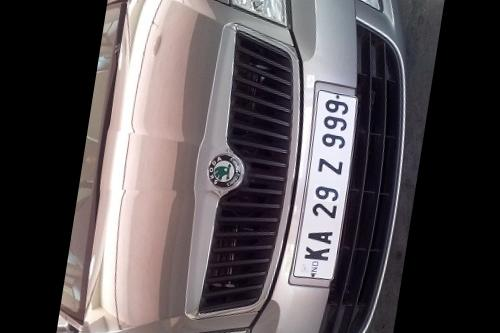plate: (287, 74, 371, 290)
